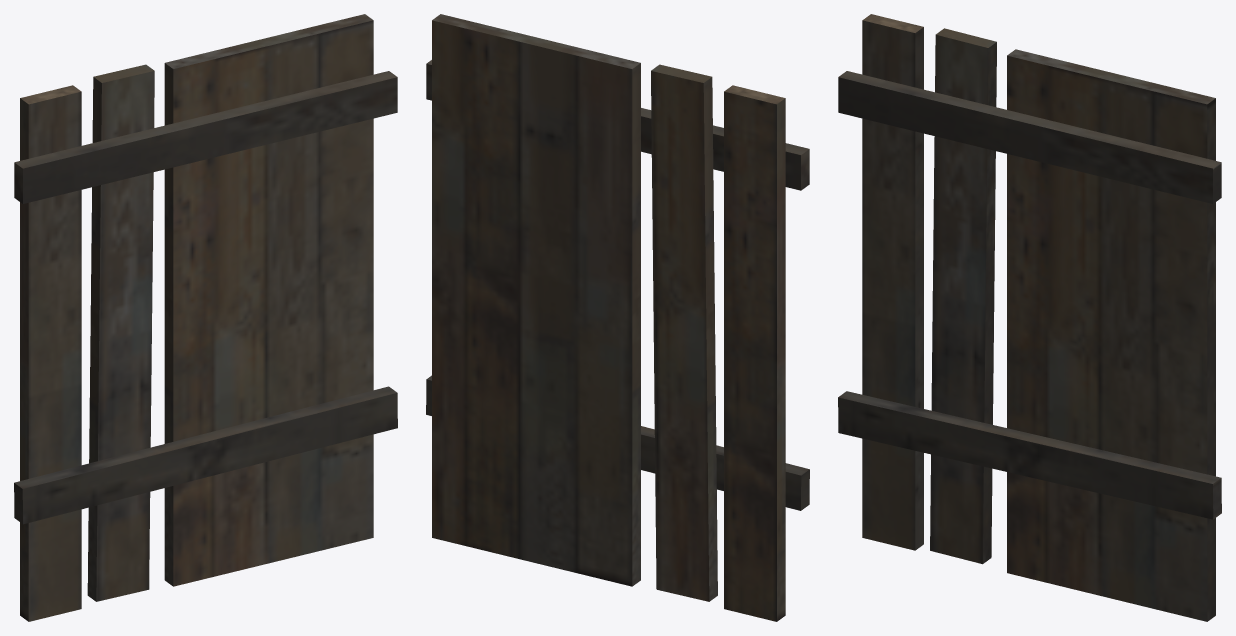
The model's file is bz_wood02_dmg.fbx.
3 views of the same model, side by side, from view 1: azimuth 30°, elevation 25°; view 2: azimuth 150°, elevation 25°; view 3: azimuth 330°, elevation 25° (orthographic).
Parts seen in each view (by area): view 1: bz_wood02_dmg09, bz_wood02_dmg03, bz_wood02_dmg01, bz_wood02_dmg05, bz_wood02_dmg04, bz_wood02_dmg02, bz_wood02_dmg06, bz_wood02_dmg07, bz_wood02_dmg08, bz_wood02_dmg10, bz_wood02_dmg11; view 2: bz_wood02_dmg09, bz_wood02_dmg03, bz_wood02_dmg01, bz_wood02_dmg05, bz_wood02_dmg06, bz_wood02_dmg07, bz_wood02_dmg11, bz_wood02_dmg08, bz_wood02_dmg04, bz_wood02_dmg02, bz_wood02_dmg10; view 3: bz_wood02_dmg09, bz_wood02_dmg03, bz_wood02_dmg01, bz_wood02_dmg05, bz_wood02_dmg02, bz_wood02_dmg04, bz_wood02_dmg07, bz_wood02_dmg06, bz_wood02_dmg08, bz_wood02_dmg10, bz_wood02_dmg11.
Part boxes in pixels (bbox=[...]): bz_wood02_dmg09: bbox=[258, 14, 373, 373]; bz_wood02_dmg03: bbox=[20, 85, 81, 621]; bz_wood02_dmg01: bbox=[164, 255, 266, 586]; bz_wood02_dmg05: bbox=[87, 172, 153, 601]; bz_wood02_dmg04: bbox=[14, 386, 397, 524]; bz_wood02_dmg02: bbox=[14, 71, 397, 203]; bz_wood02_dmg06: bbox=[164, 40, 266, 317]; bz_wood02_dmg07: bbox=[266, 338, 373, 563]; bz_wood02_dmg08: bbox=[266, 268, 319, 563]; bz_wood02_dmg10: bbox=[164, 70, 213, 327]; bz_wood02_dmg11: bbox=[92, 64, 154, 200]; bz_wood02_dmg09: bbox=[432, 14, 547, 373]; bz_wood02_dmg03: bbox=[724, 85, 785, 621]; bz_wood02_dmg01: bbox=[539, 255, 640, 586]; bz_wood02_dmg05: bbox=[652, 164, 717, 601]; bz_wood02_dmg06: bbox=[539, 40, 640, 327]; bz_wood02_dmg07: bbox=[432, 338, 539, 563]; bz_wood02_dmg11: bbox=[651, 64, 713, 234]; bz_wood02_dmg08: bbox=[485, 268, 539, 562]; bz_wood02_dmg04: bbox=[426, 375, 809, 510]; bz_wood02_dmg02: bbox=[426, 60, 809, 190]; bz_wood02_dmg10: bbox=[632, 67, 640, 327]; bz_wood02_dmg09: bbox=[1100, 72, 1215, 432]; bz_wood02_dmg03: bbox=[862, 14, 923, 550]; bz_wood02_dmg01: bbox=[1007, 261, 1099, 595]; bz_wood02_dmg05: bbox=[930, 136, 995, 564]; bz_wood02_dmg02: bbox=[838, 71, 1221, 203]; bz_wood02_dmg04: bbox=[838, 391, 1221, 519]; bz_wood02_dmg07: bbox=[1100, 416, 1215, 621]; bz_wood02_dmg06: bbox=[1007, 49, 1107, 298]; bz_wood02_dmg08: bbox=[1100, 300, 1153, 594]; bz_wood02_dmg10: bbox=[1007, 56, 1046, 313]; bz_wood02_dmg11: bbox=[935, 28, 996, 202].
Bounding box in the file's own units: 0.9766 × 1.3 × 0.0803.
